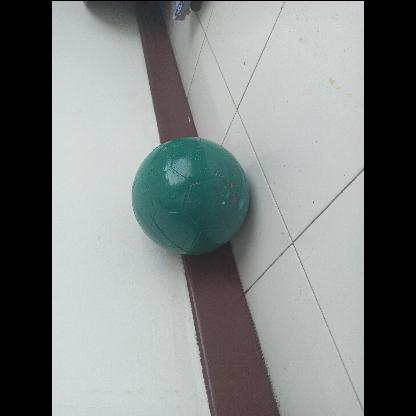green_ball: (131, 137, 249, 255)
